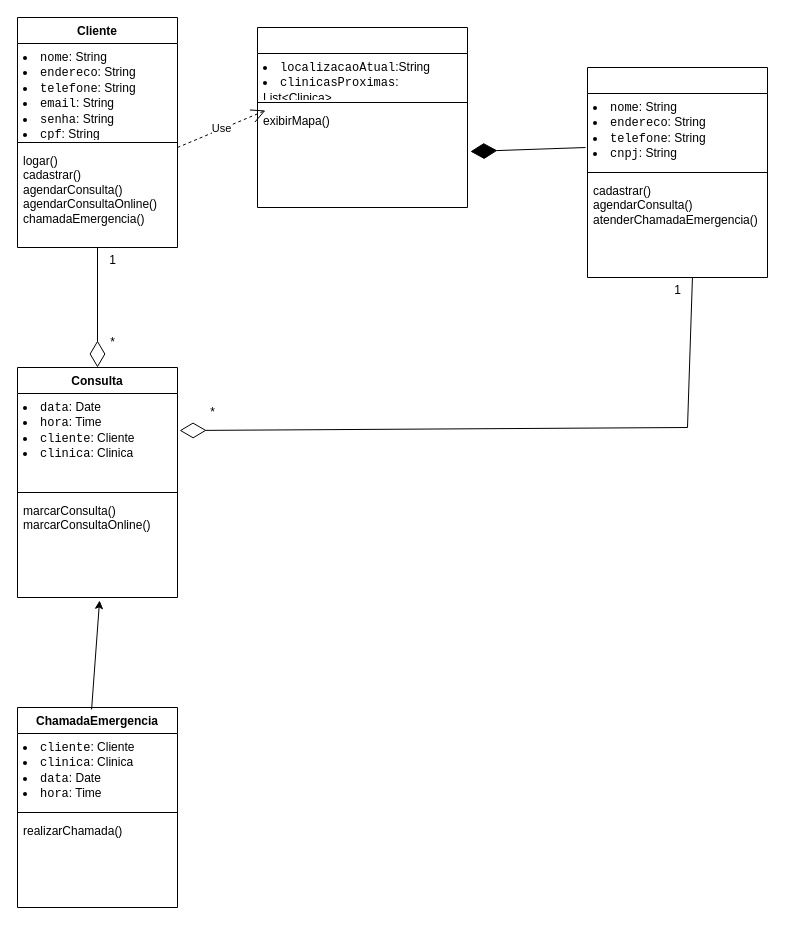
Some shapes in this 785 by 928 pixel diagram are drawn without their labels. Here are the shapes that lost their labels. From the top down, the box of each, then its label:
(256, 26, 468, 208): mapaclinicas
(586, 66, 768, 278): Clínica
